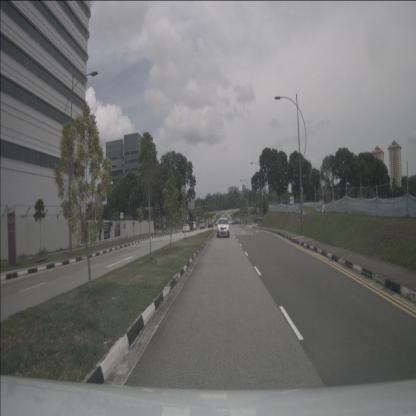vehicle-car: (217, 218, 229, 238), (182, 224, 191, 233), (232, 218, 242, 225), (254, 215, 262, 223), (200, 219, 206, 229), (191, 221, 196, 230), (188, 222, 193, 231), (208, 221, 213, 228)
